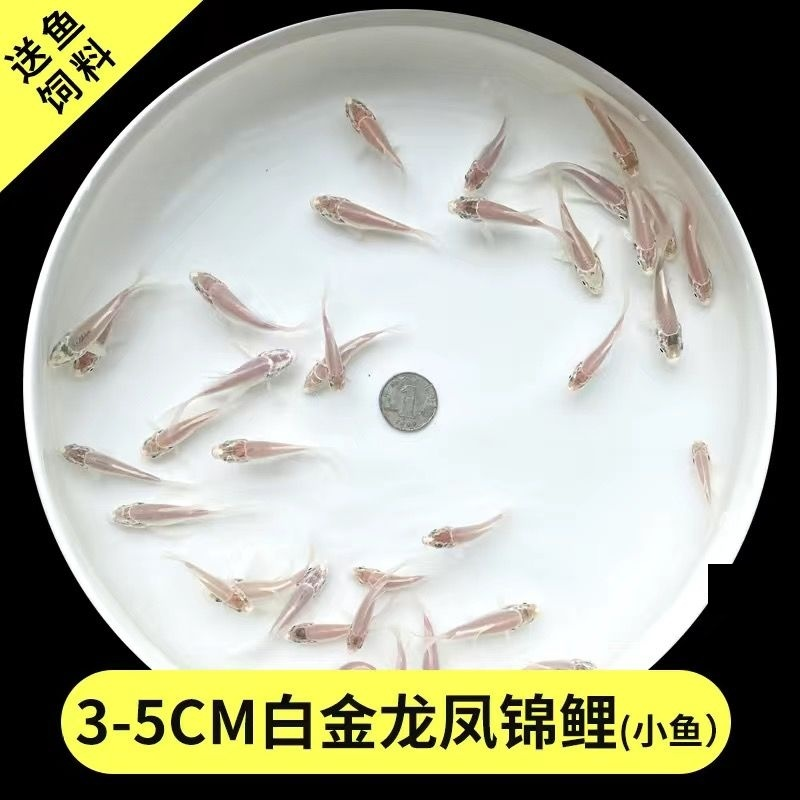fry: (172, 258, 303, 352), (296, 184, 428, 249), (329, 91, 419, 177), (442, 186, 553, 245), (671, 205, 723, 317), (109, 492, 228, 539), (51, 438, 158, 490), (552, 315, 619, 398), (446, 604, 568, 649), (407, 508, 519, 557), (201, 337, 293, 396), (443, 114, 519, 185), (586, 96, 648, 183), (560, 152, 631, 226), (650, 257, 692, 380), (557, 213, 609, 311), (680, 425, 730, 522), (617, 184, 665, 280), (186, 555, 257, 619), (640, 175, 689, 267), (270, 556, 325, 634), (133, 407, 210, 462), (211, 434, 307, 475), (347, 560, 425, 605), (45, 305, 101, 367), (300, 338, 353, 400), (65, 331, 121, 383), (345, 586, 386, 654), (325, 326, 360, 404), (235, 563, 298, 603), (405, 610, 442, 669), (282, 617, 345, 650)
